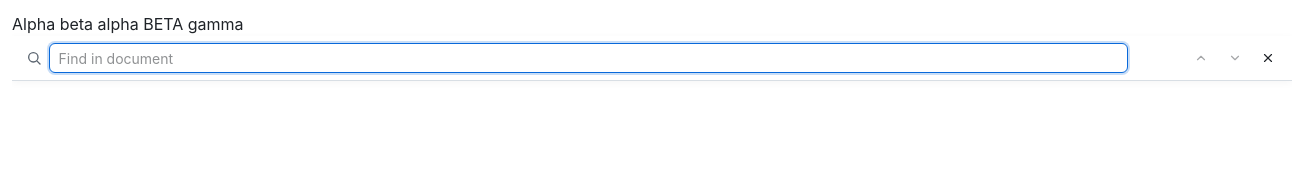
Test: SearchBar › counts matches case-insensitively
Type "alpha" into the field with test id "search-input". click: (588, 58)
box: top-left (49, 43), bottom-right (1128, 73)
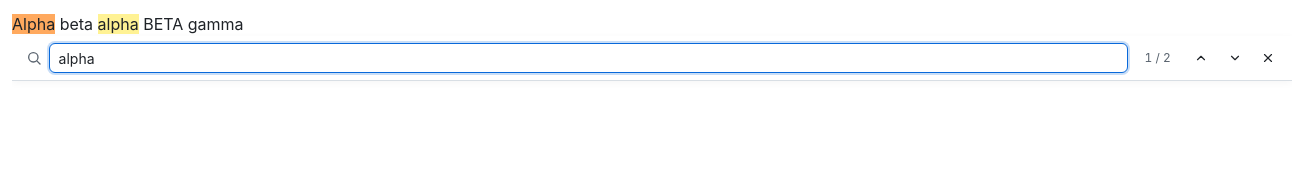
Now the text "1 / 2" is shown, box top-left (1144, 50), bottom-right (1171, 65)
